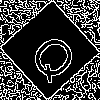Q: (25, 25, 87, 87)
